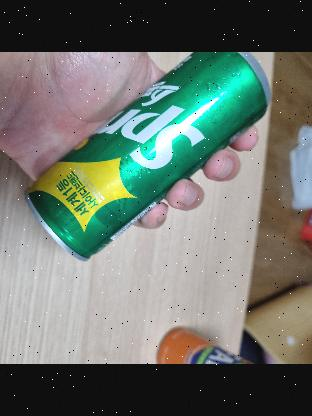Can: (30, 57, 278, 253)
